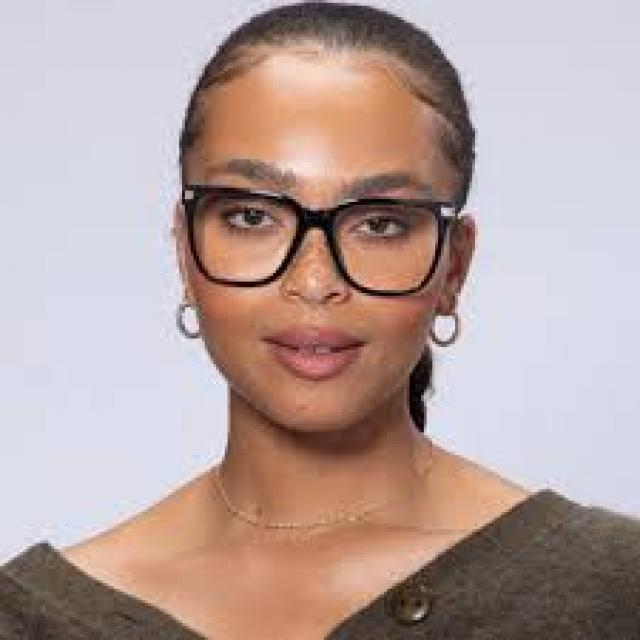Glasses: (165, 184, 458, 296)
